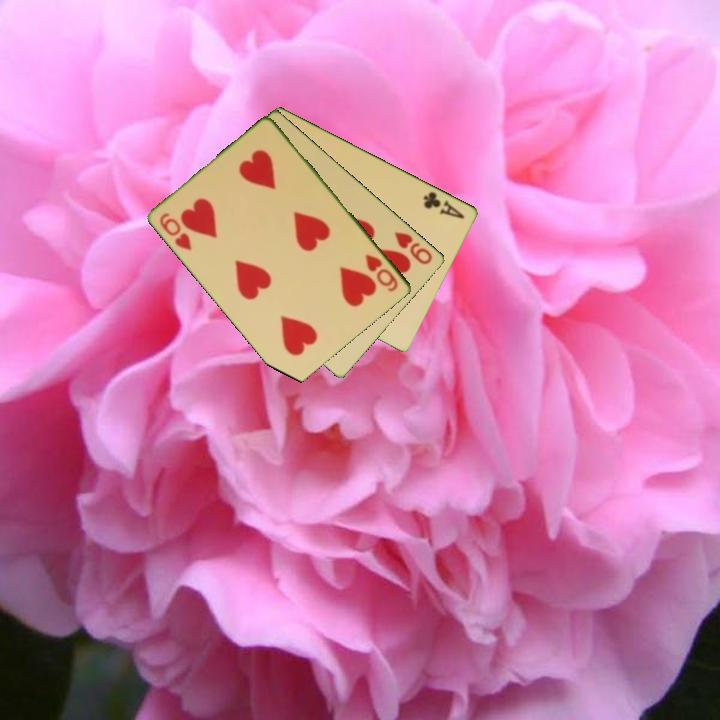6h: (362, 250, 401, 295), (156, 209, 195, 254)
9h: (391, 228, 436, 268)
Ac: (420, 188, 468, 222)
